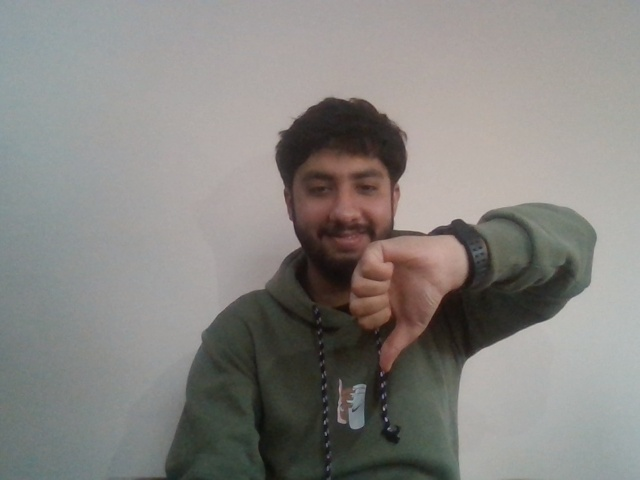No: (345, 236, 441, 371)
